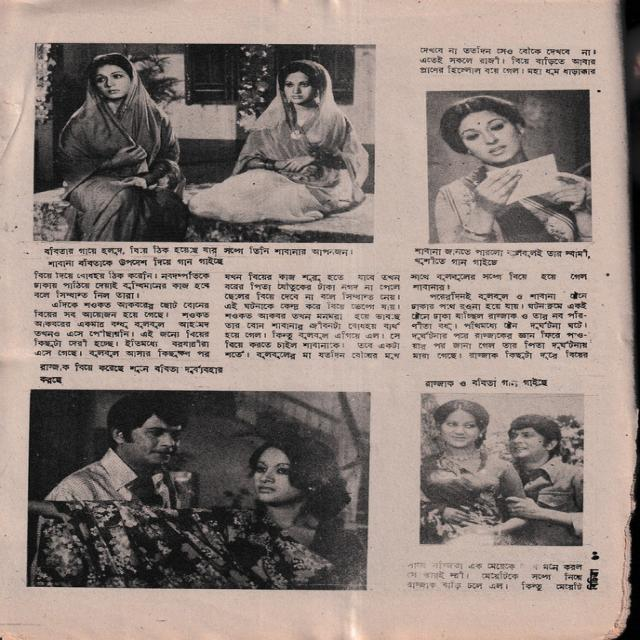caption: (42, 244, 353, 268), (39, 364, 223, 386), (414, 248, 590, 266), (424, 378, 549, 388)
image: (29, 388, 363, 589), (37, 43, 372, 242), (425, 90, 589, 242), (422, 393, 584, 546)
page number: (591, 551, 600, 559)
paragraph: (223, 272, 402, 360), (411, 290, 591, 359), (34, 300, 211, 358), (419, 45, 596, 77), (406, 561, 585, 591), (34, 269, 211, 299), (409, 268, 591, 292)
text: (586, 569, 600, 589)
